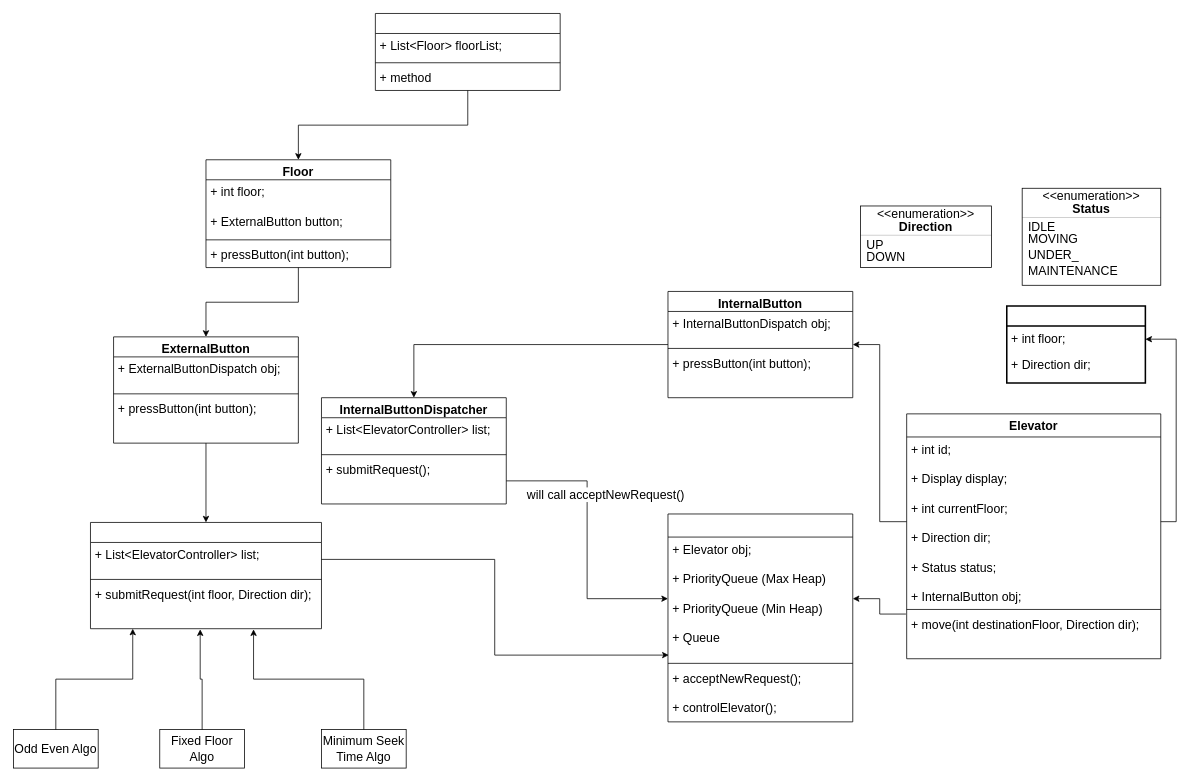
The diagram is 1196 pixels wide and 782 high, and some of its shapes have lost their labels. Here are the shapes that lost their labels. From the top down, the box of each, then its label:
(375, 13, 560, 90): Building
(1006, 305, 1146, 383): Display
(90, 522, 321, 629): ExternalButtonDispatcher
(667, 513, 853, 722): ElevatorController
